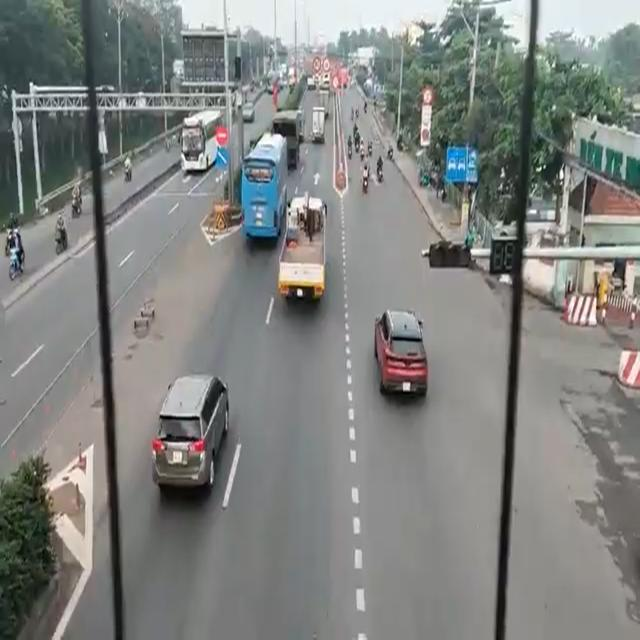bus: (237, 137, 287, 248), (180, 114, 212, 180)
car: (159, 372, 229, 488), (375, 303, 425, 399)
truck: (280, 198, 324, 305)
